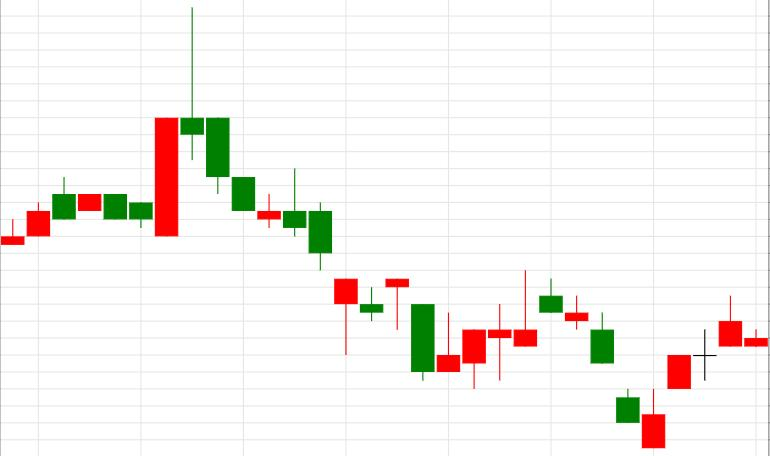hammer_rise: (181, 8, 357, 355)
